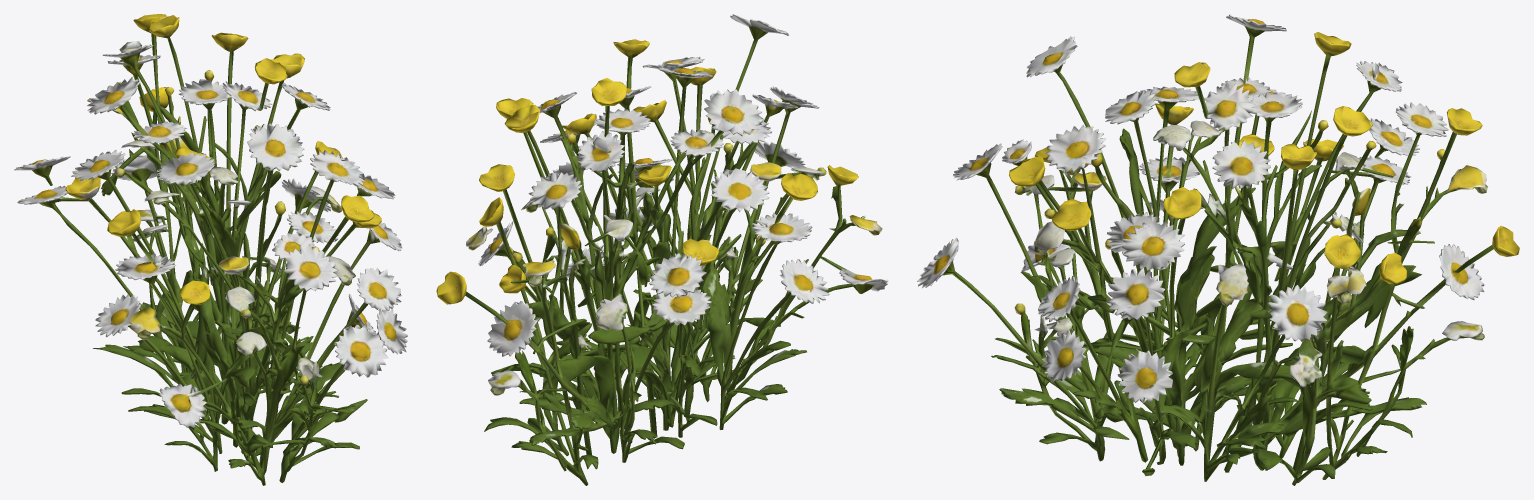
The model's file is flower_a.glb.
3 views of the same model, side by side, from view 1: azimuth 30°, elevation 25°; view 2: azimuth 150°, elevation 25°; view 3: azimuth 270°, elevation 25° (orthographic). The views are drawn at different scales.
Visible parts, largest first — view 1: tripo_node_ba001401-813b-4bde-8059-a1ffd22a2dd8; view 2: tripo_node_ba001401-813b-4bde-8059-a1ffd22a2dd8; view 3: tripo_node_ba001401-813b-4bde-8059-a1ffd22a2dd8.
Boxes of the visible parts, left/top/right/bottom form: tripo_node_ba001401-813b-4bde-8059-a1ffd22a2dd8: left=14, top=14, right=407, bottom=485; tripo_node_ba001401-813b-4bde-8059-a1ffd22a2dd8: left=436, top=14, right=888, bottom=485; tripo_node_ba001401-813b-4bde-8059-a1ffd22a2dd8: left=917, top=14, right=1519, bottom=485.
Bounding box in the file's own units: 0.6022 × 0.7788 × 0.98.
Materials: 1 (1 with a texture image).
